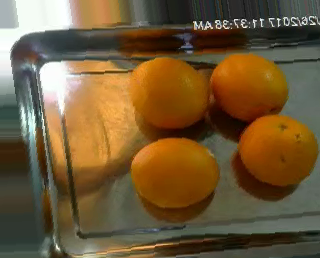Orange: (131, 137, 220, 208), (128, 56, 209, 129), (238, 114, 319, 185), (209, 52, 291, 120)
